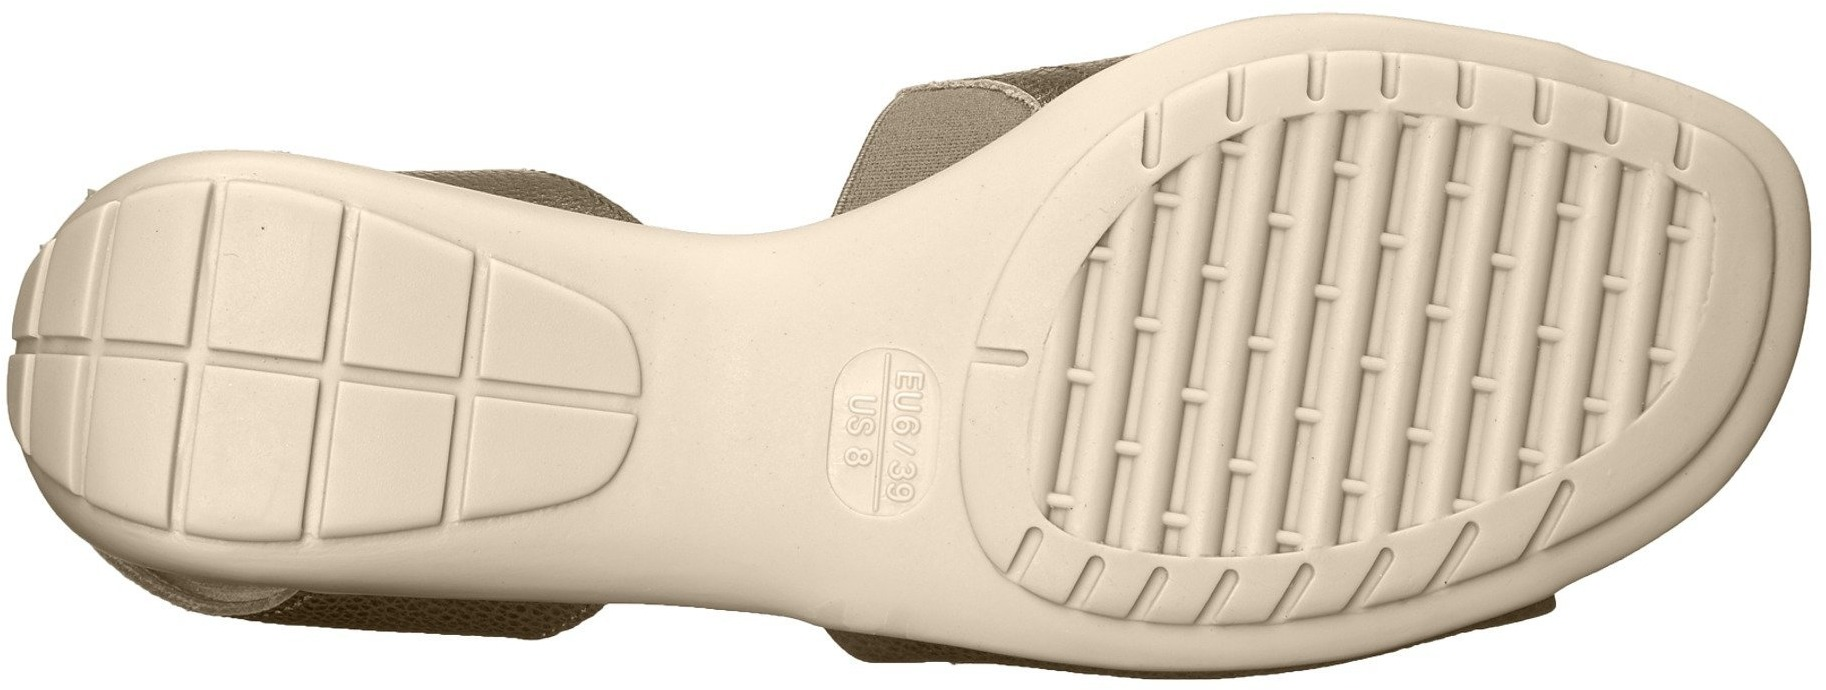circle: (811, 322, 956, 540)
line: (1135, 175, 1485, 512), (811, 322, 956, 540)
other: (622, 447, 811, 618), (643, 252, 805, 396)
quad: (153, 173, 474, 546), (1135, 175, 1485, 512)
text: (811, 322, 956, 540), (813, 367, 948, 508)
